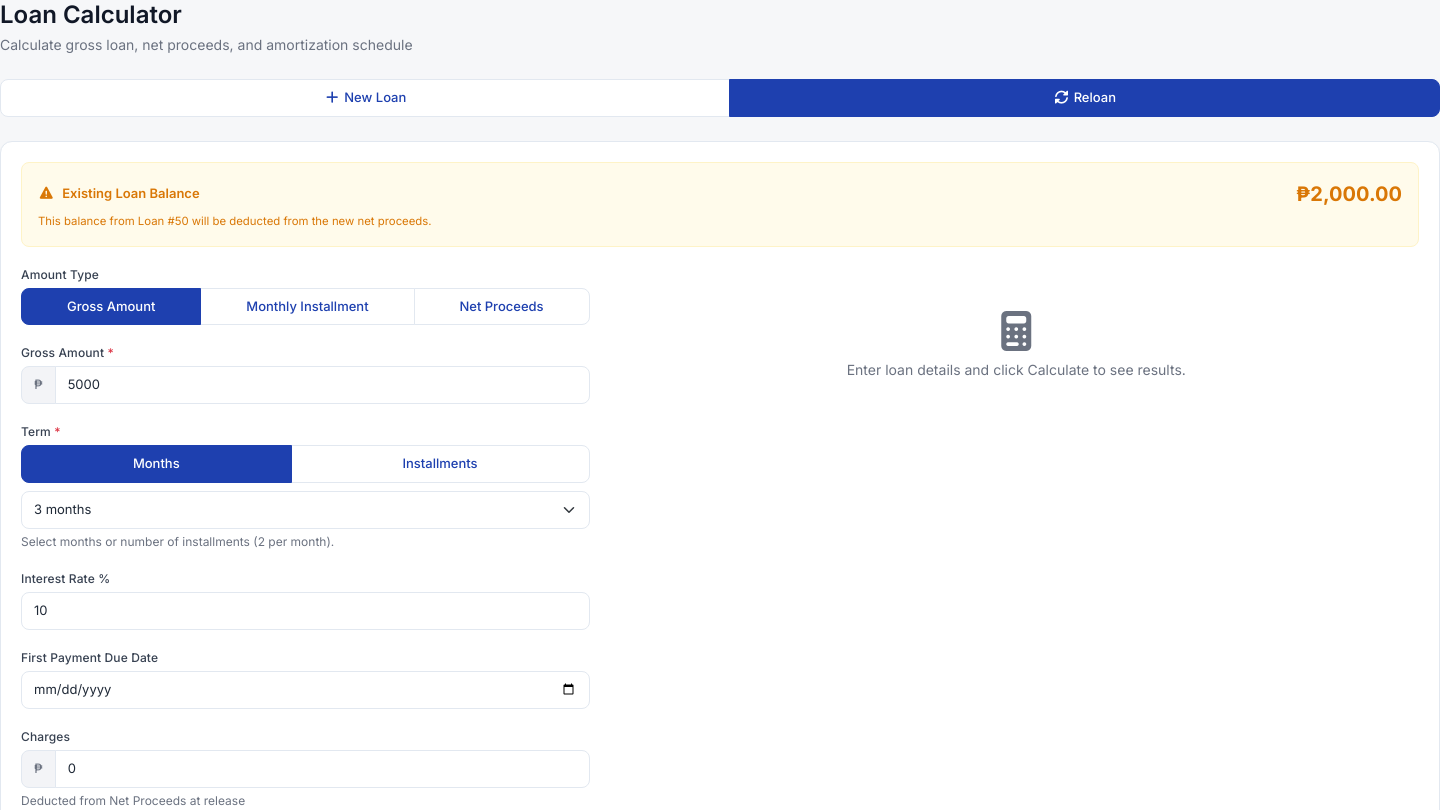
Test: LoanCalculatorPage › shows reloan info when client_id and existing loans exist
Replace the text in the field labelled "Gross Amount *" with "10000". click: (322, 385)
box: [55,366,590,404]
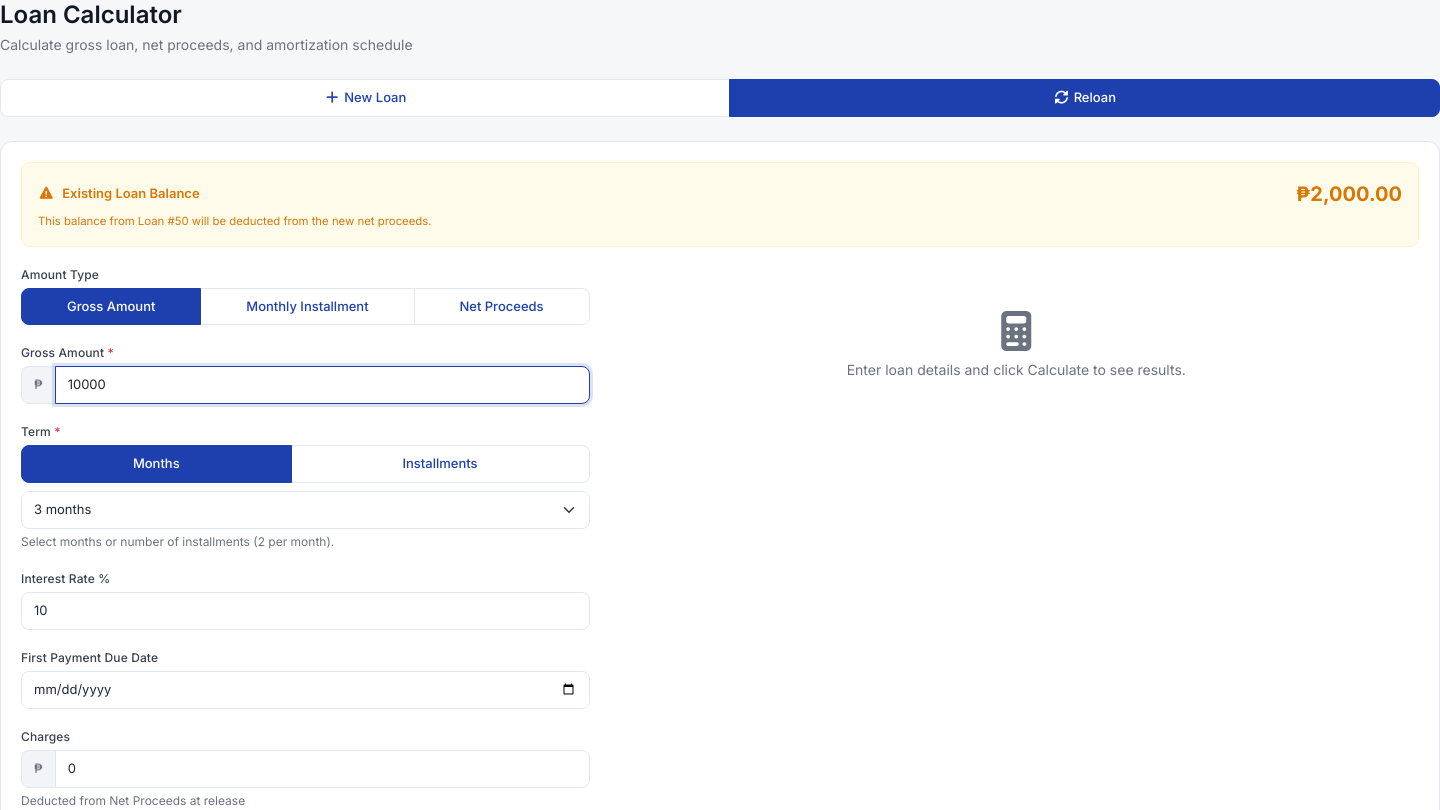
Select "3 months" in the dropdown named "Number of months". click: (305, 510)
box: [21,491,590,529]
(page scrolled)
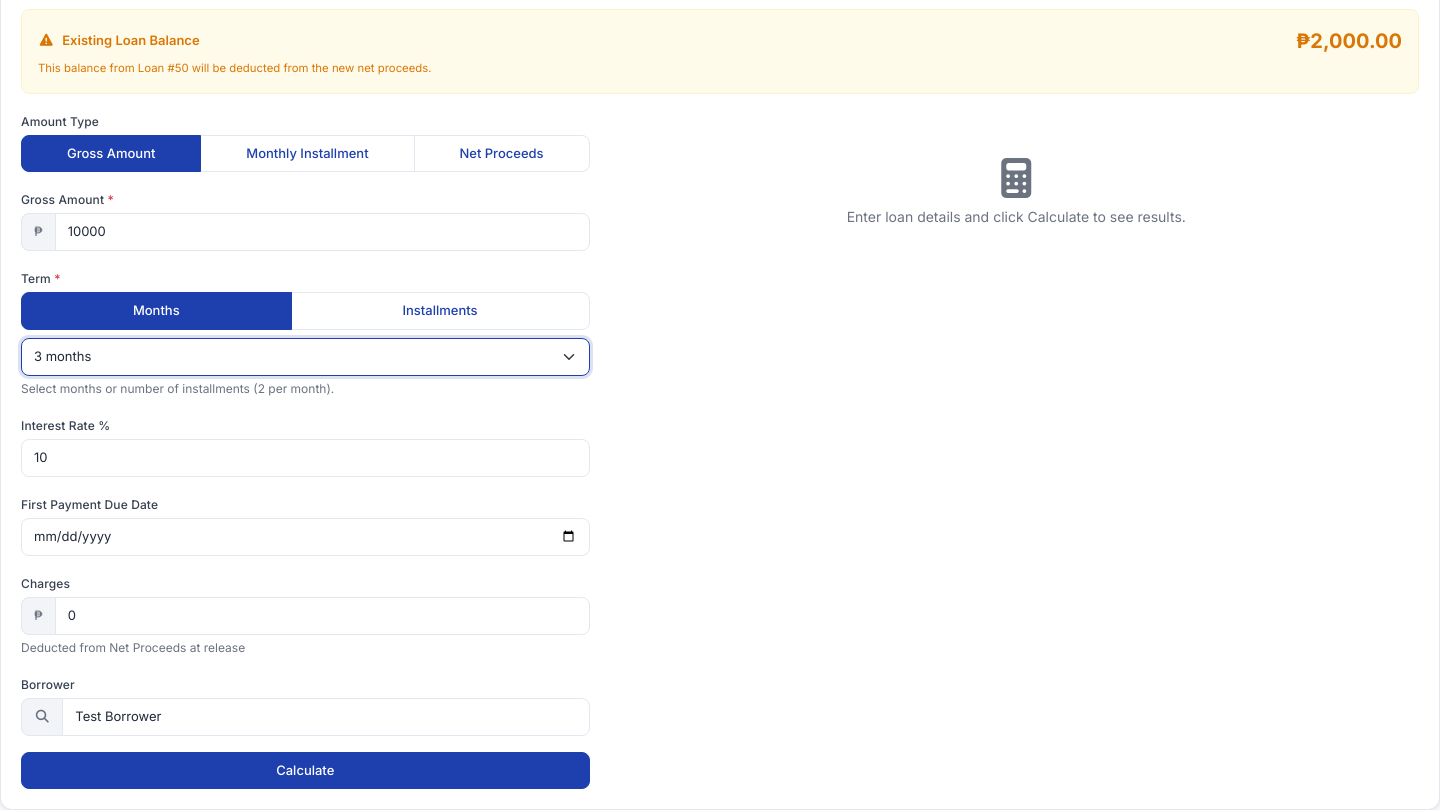
Click the button "Calculate". click: (305, 770)
box: [21,752,590,789]
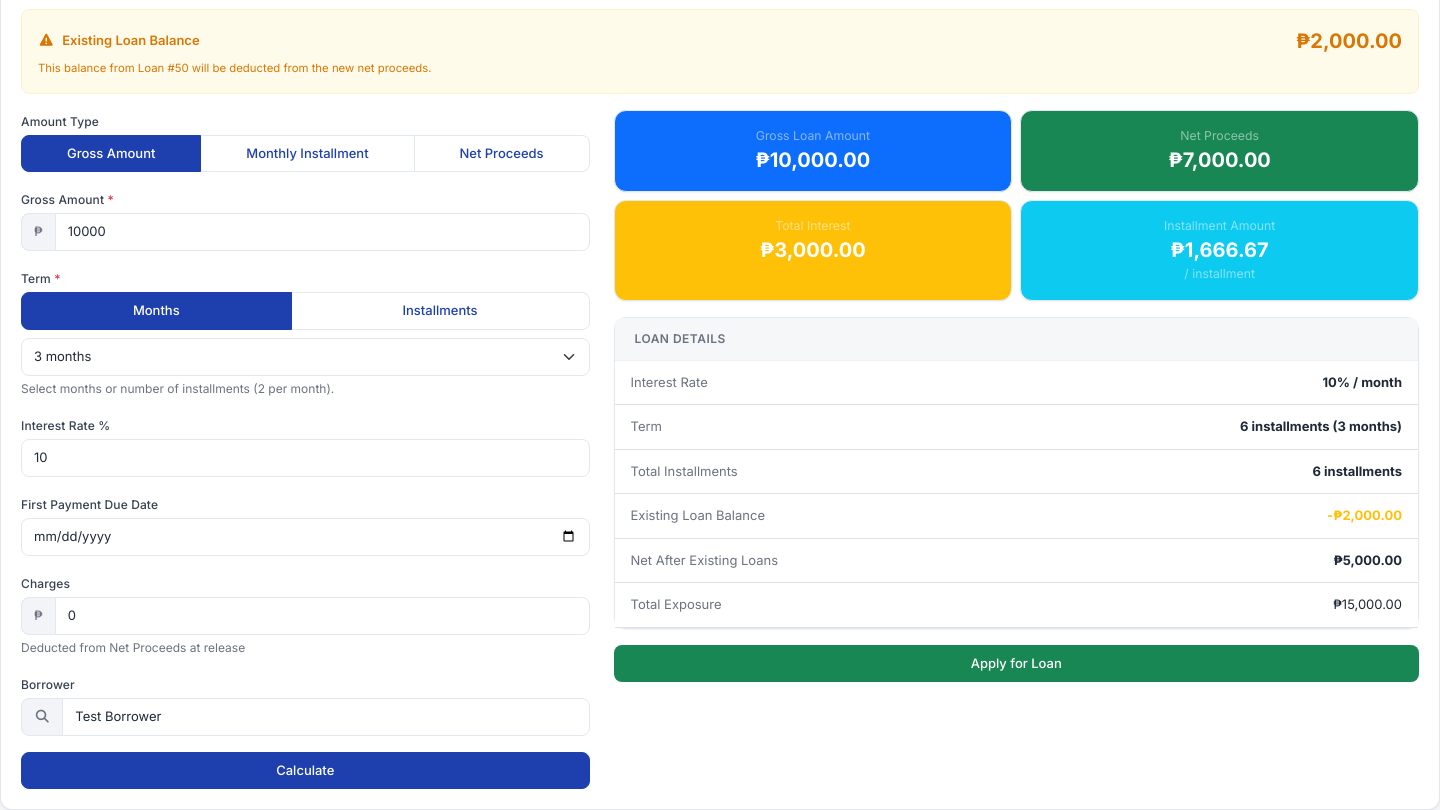
Expected: the text "Net Proceeds" is shown, [1180,128,1259,143]
